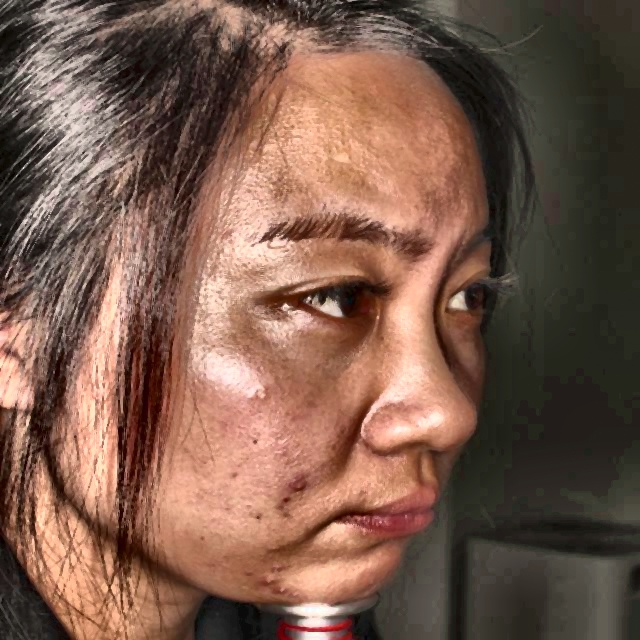comedone: (253, 571, 293, 601), (279, 473, 317, 503)
